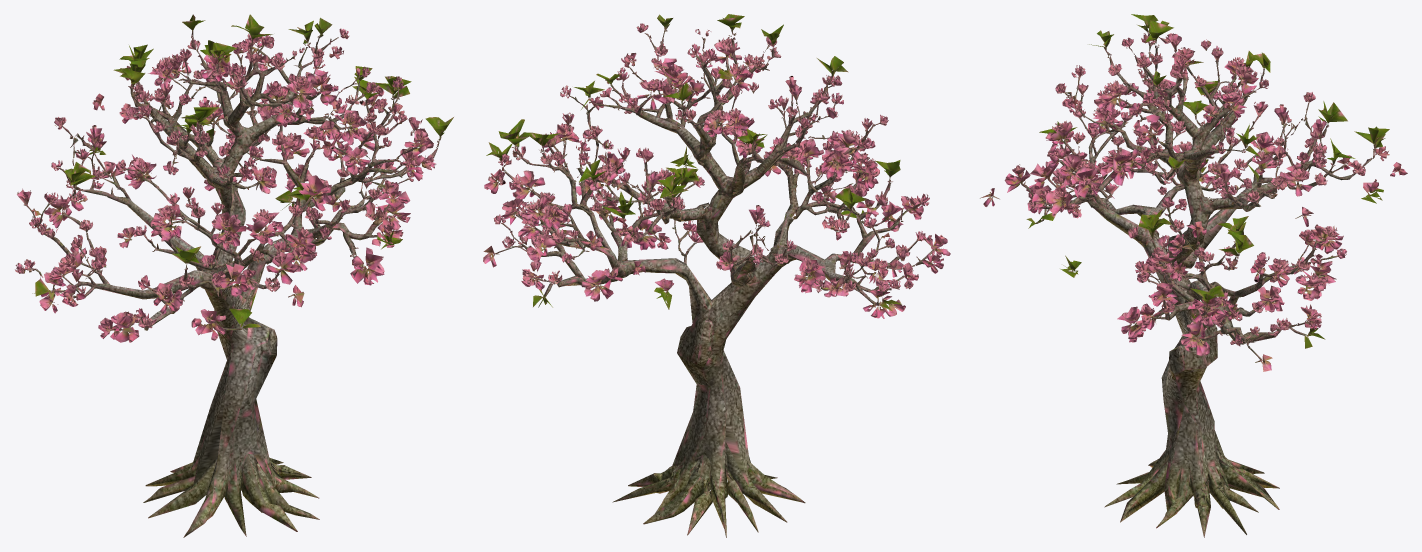
File: peach.glb
3 views of the same model, side by side, from view 1: azimuth 30°, elevation 25°; view 2: azimuth 150°, elevation 25°; view 3: azimuth 270°, elevation 25° (orthographic). The views are drawn at different scales.
Visible parts, largest first — view 1: geometry_0; view 2: geometry_0; view 3: geometry_0.
Boxes of the visible parts, x1=… form: geometry_0: x1=15, y1=14, x2=453, y2=537; geometry_0: x1=483, y1=14, x2=950, y2=537; geometry_0: x1=980, y1=14, x2=1407, y2=537.
Bounding box in the file's own units: 0.9165 × 0.9832 × 0.8037.
Materials: 1 (1 with a texture image).
